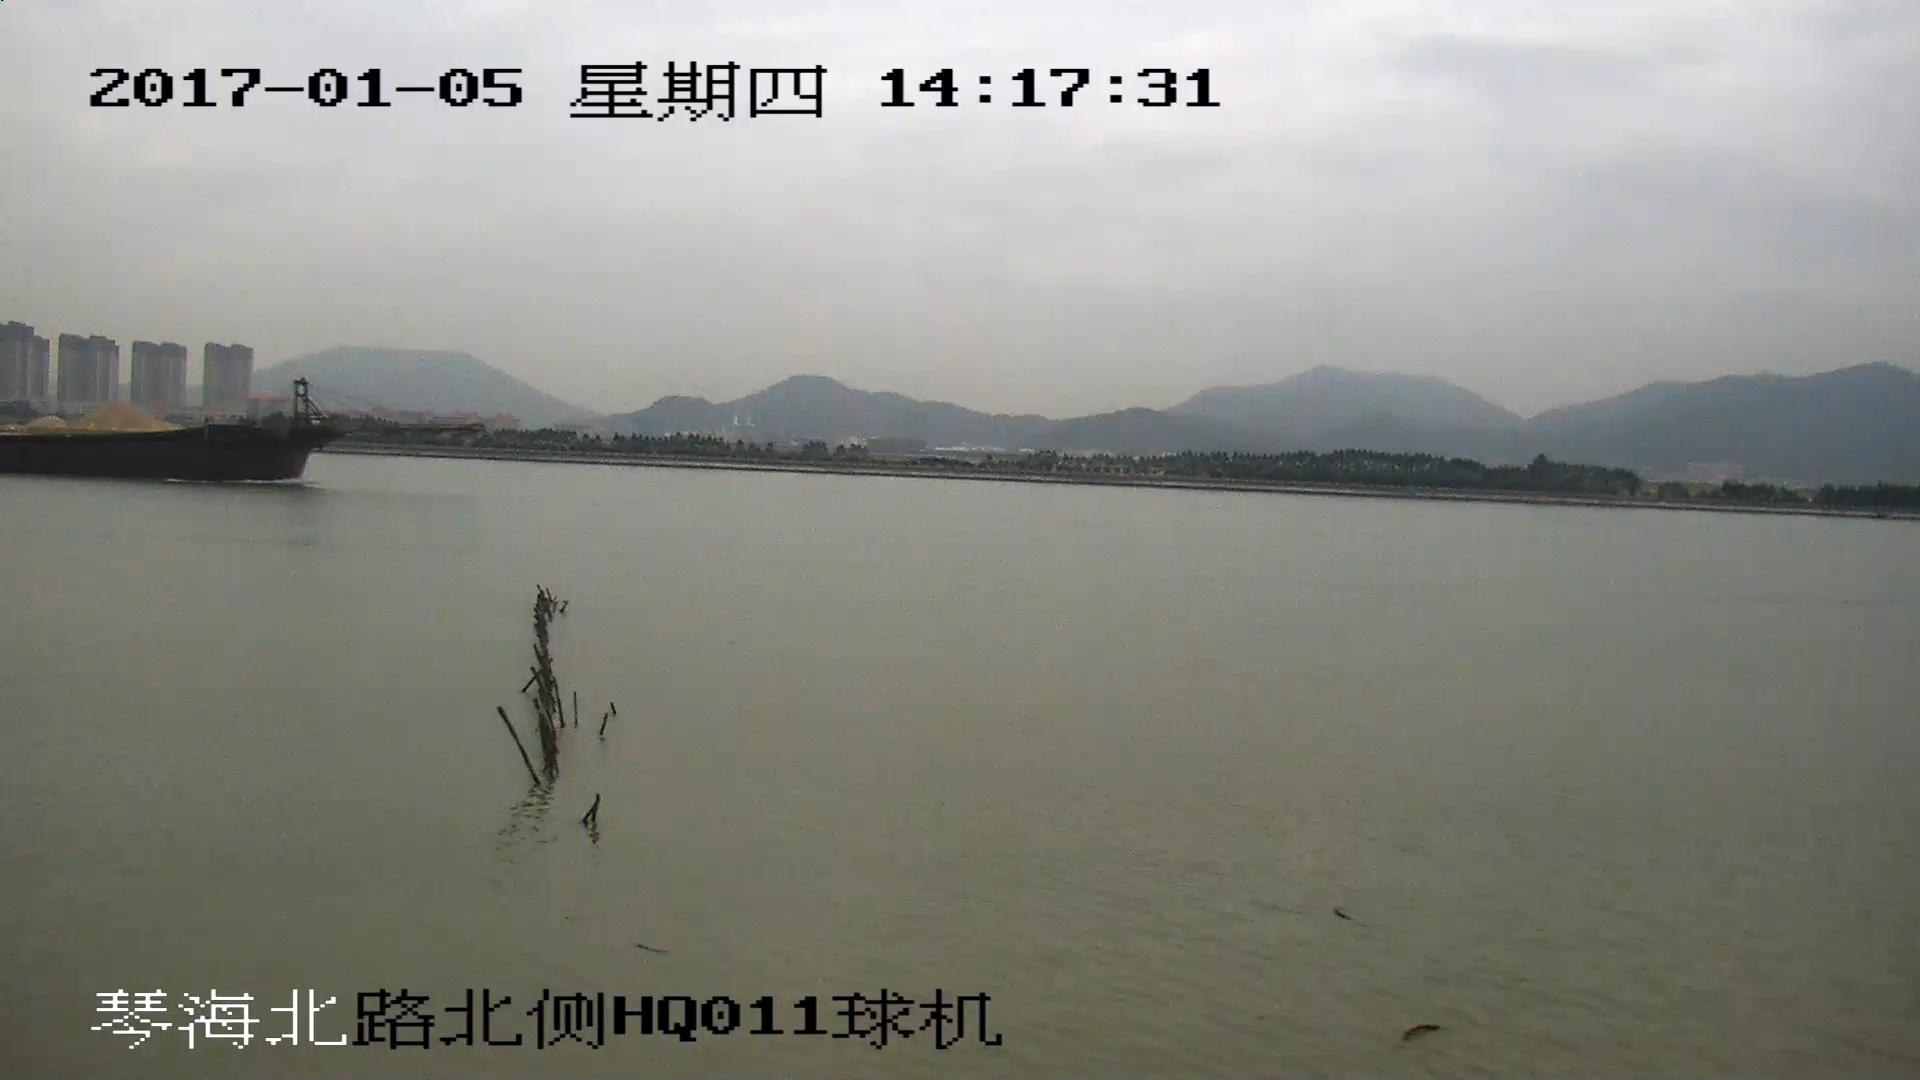Ship: (3, 380, 448, 480)
